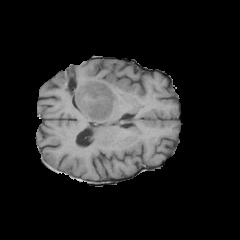glioma: (64, 66, 136, 122)
